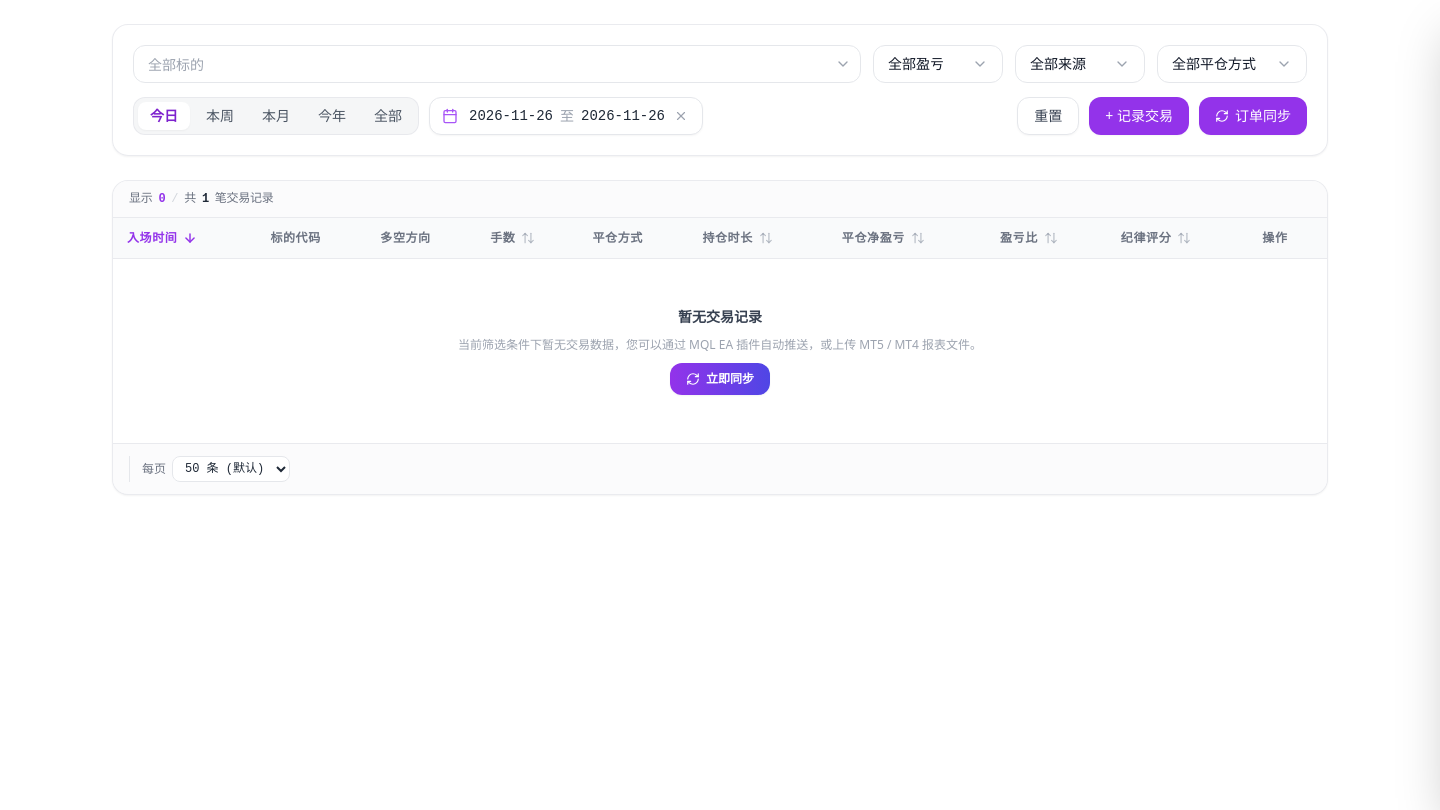
TradesPage › opens trade review detail drawer, disables background scrolling and hides root scrollbars, then restores scrolling upon closing
This screenshot has width=1440, height=810.
Click the button "全部": (388, 116) x1=362 y1=102 x2=414 y2=130
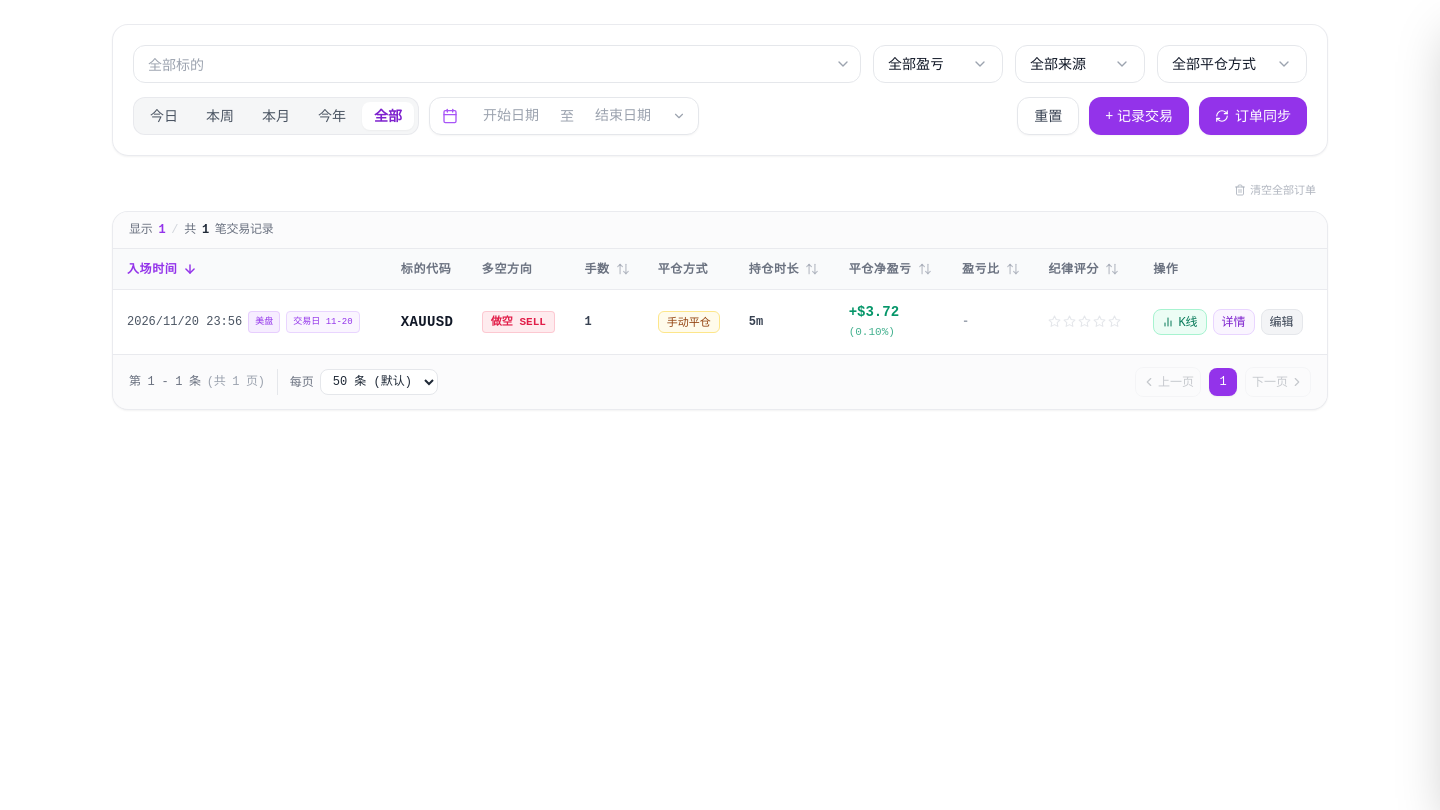
Check: the text "XAUUSD" is shown, box x1=389 y1=289 x2=470 y2=354
Click "详情" button to open detail drawer
Click the button "详情": (1234, 322) x1=1213 y1=308 x2=1255 y2=334
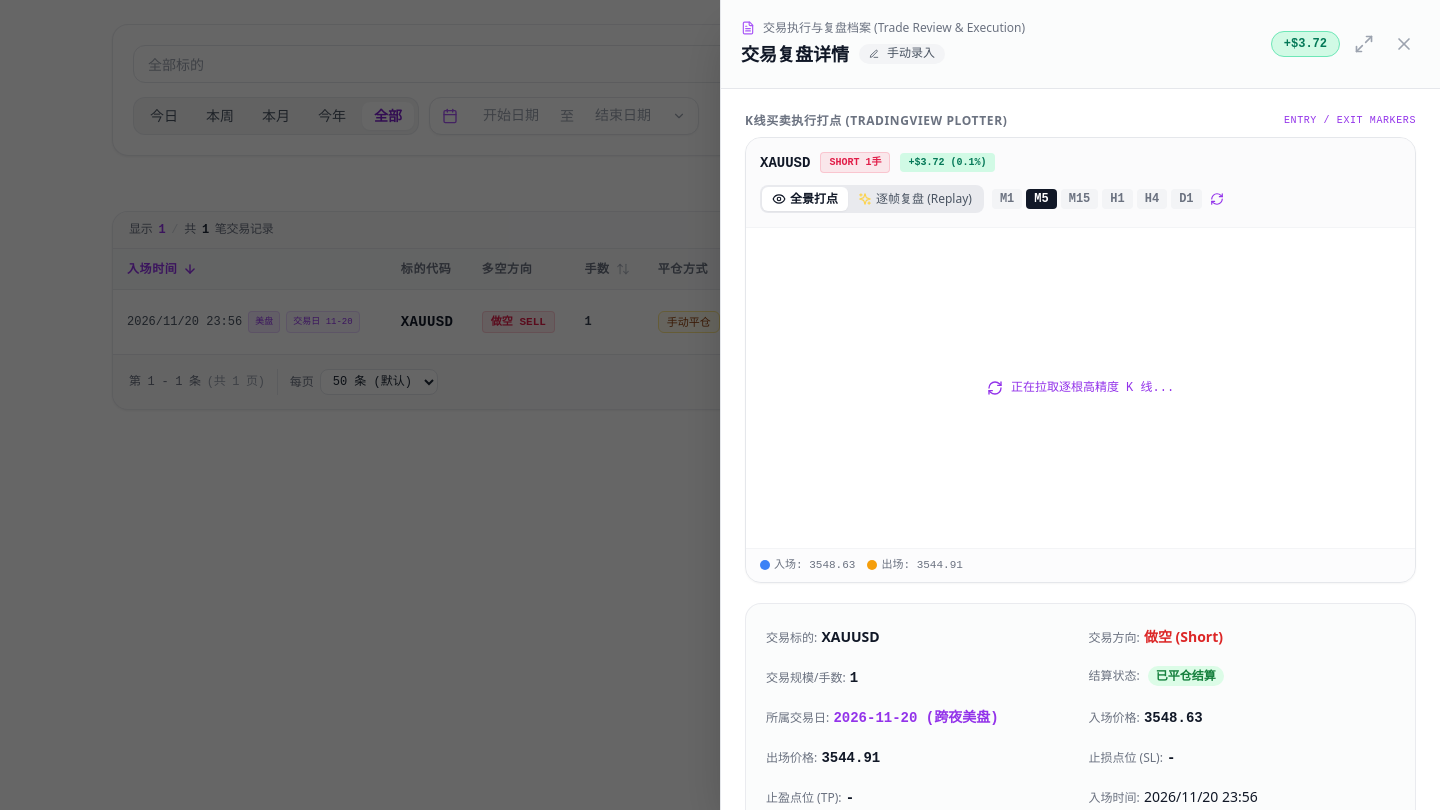
Check: the heading "交易复盘详情" is shown, box x1=741 y1=40 x2=849 y2=68
Click header close button
Click the button named "关闭详情抽屉": (1404, 44) x1=1388 y1=28 x2=1420 y2=60
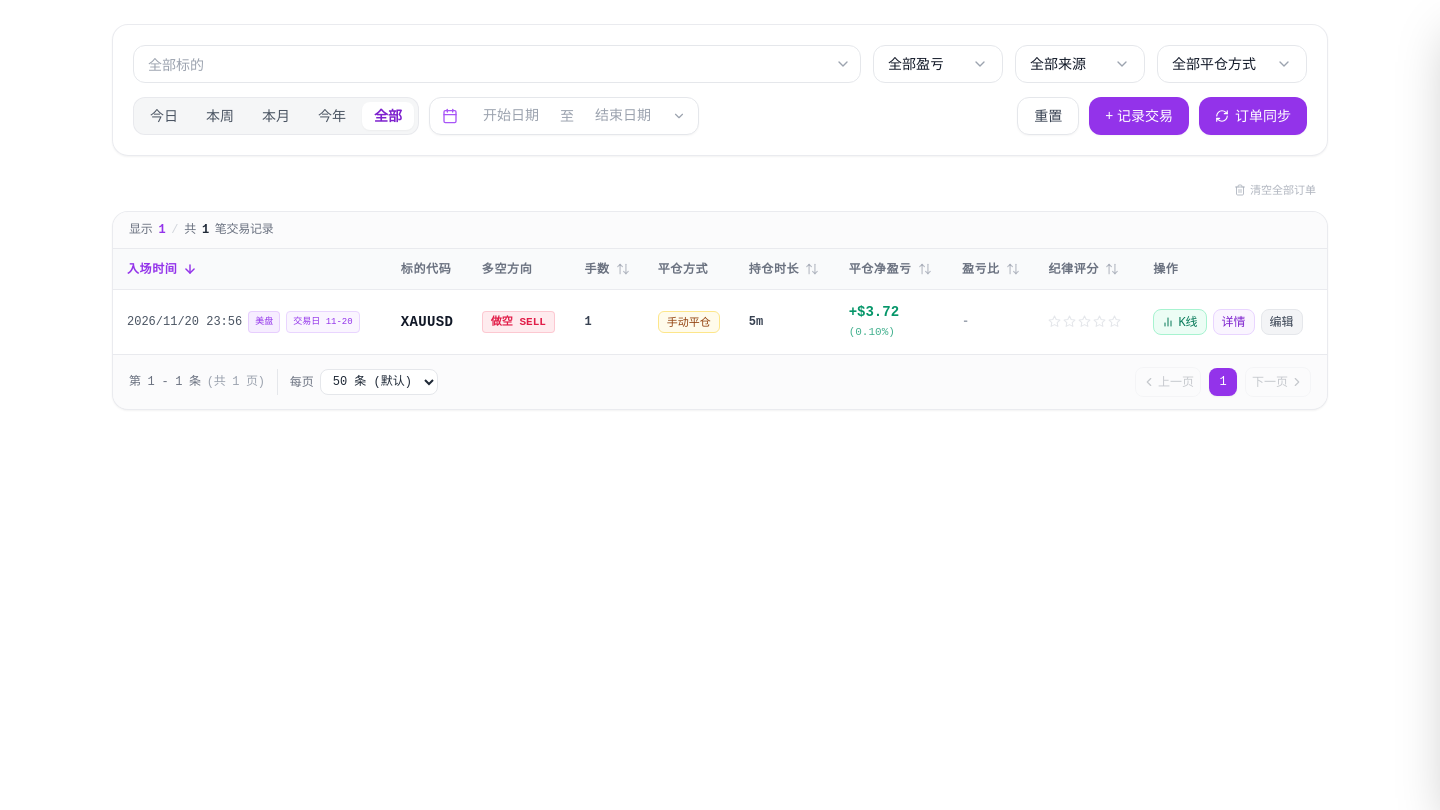
Check: the heading "交易复盘详情" is gone
